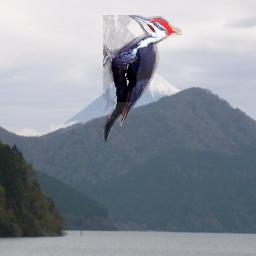Woodpecker: (103, 15, 182, 145)
